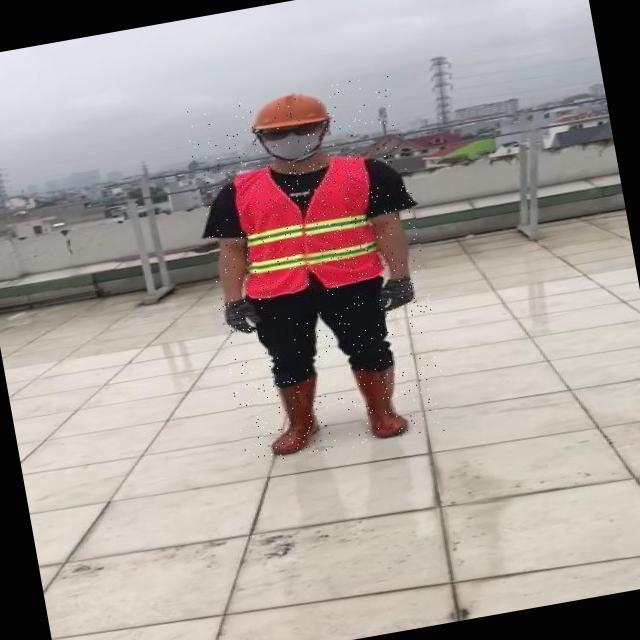boots: (254, 374, 330, 460), (354, 359, 414, 442)
gloves: (374, 270, 421, 316)
helmet: (244, 86, 334, 136)
vest: (228, 154, 389, 302)
